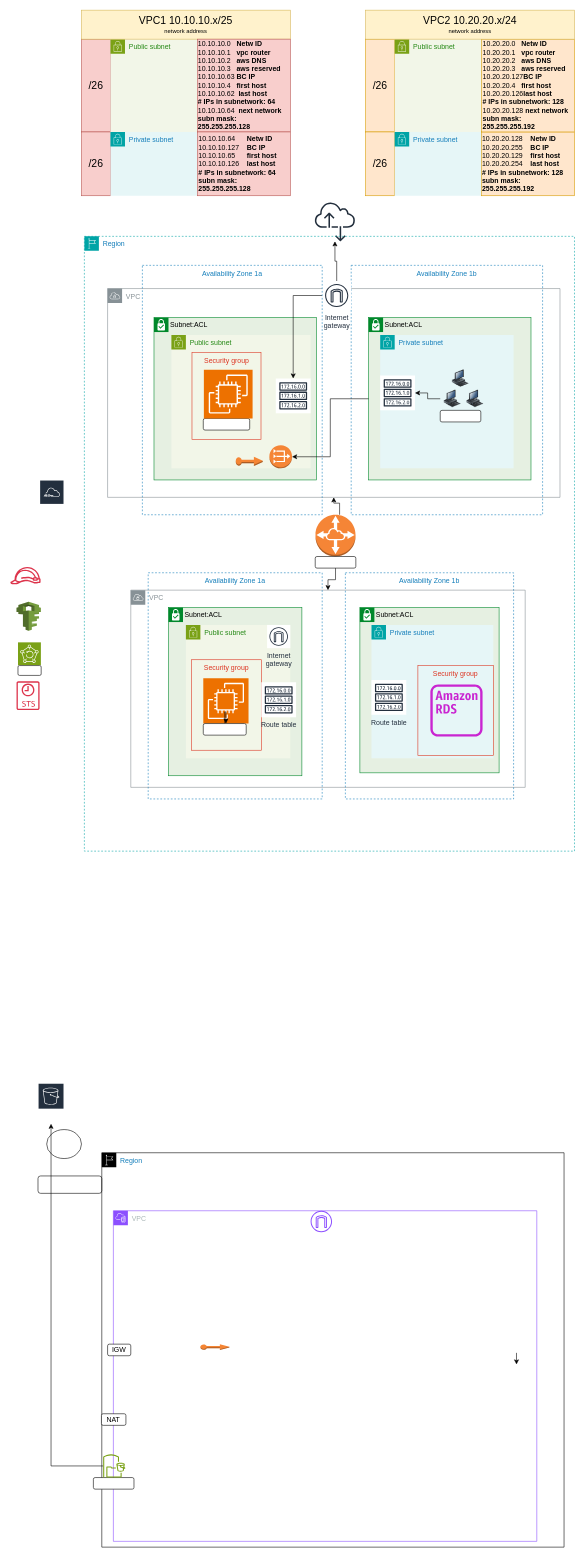
This 585x1557 diagram has some shape labels left out. Here are the shapes that lost their labels. From the top down, the box of each, then its label:
(275, 378, 311, 413): Public RT
(380, 375, 415, 410): Private RT
(203, 418, 250, 430): web server
(440, 410, 481, 422): workstations
(39, 479, 64, 521): AWS CloudTrail
(315, 556, 356, 568): vpc peering
(17, 665, 41, 675): backup
(203, 723, 246, 735): admin server
(37, 1083, 64, 1124): Amazon S3
(37, 1175, 102, 1193): PostDeployment Scripts
(93, 1477, 134, 1489): S3 endpoint
